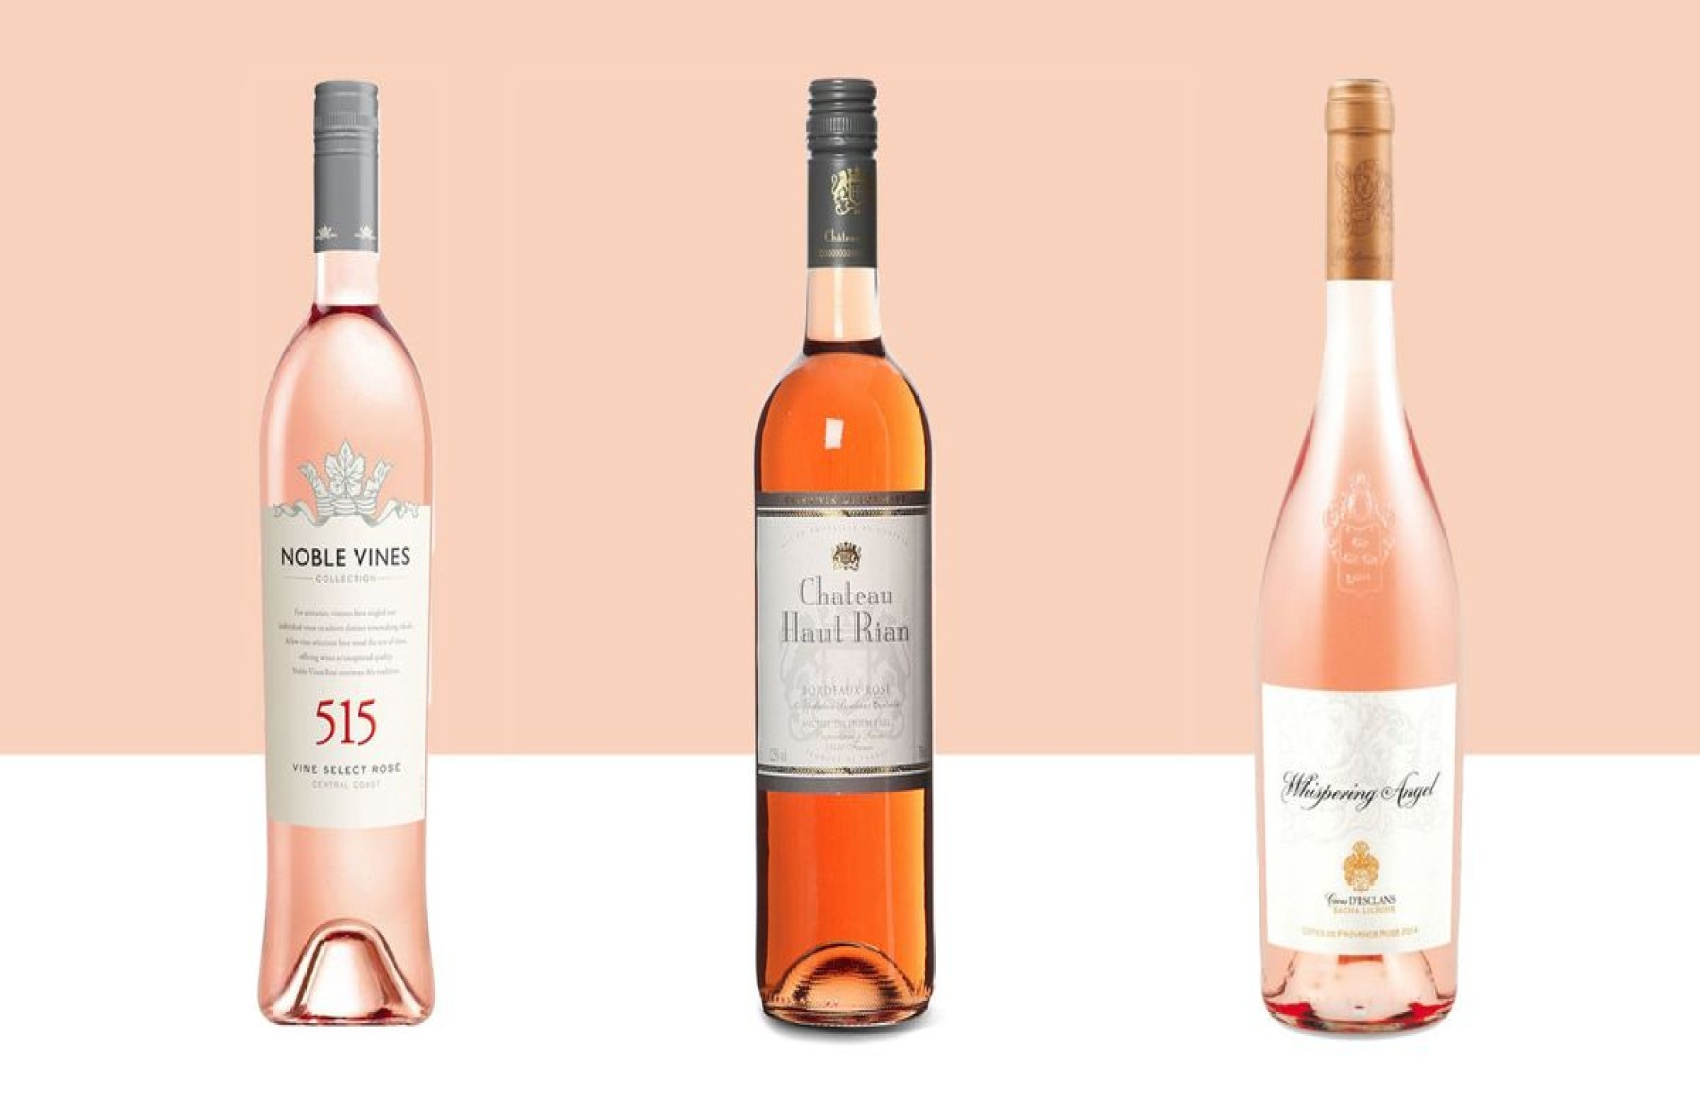wine: (752, 94, 935, 1033), (247, 76, 430, 1015), (1268, 93, 1450, 1032)
